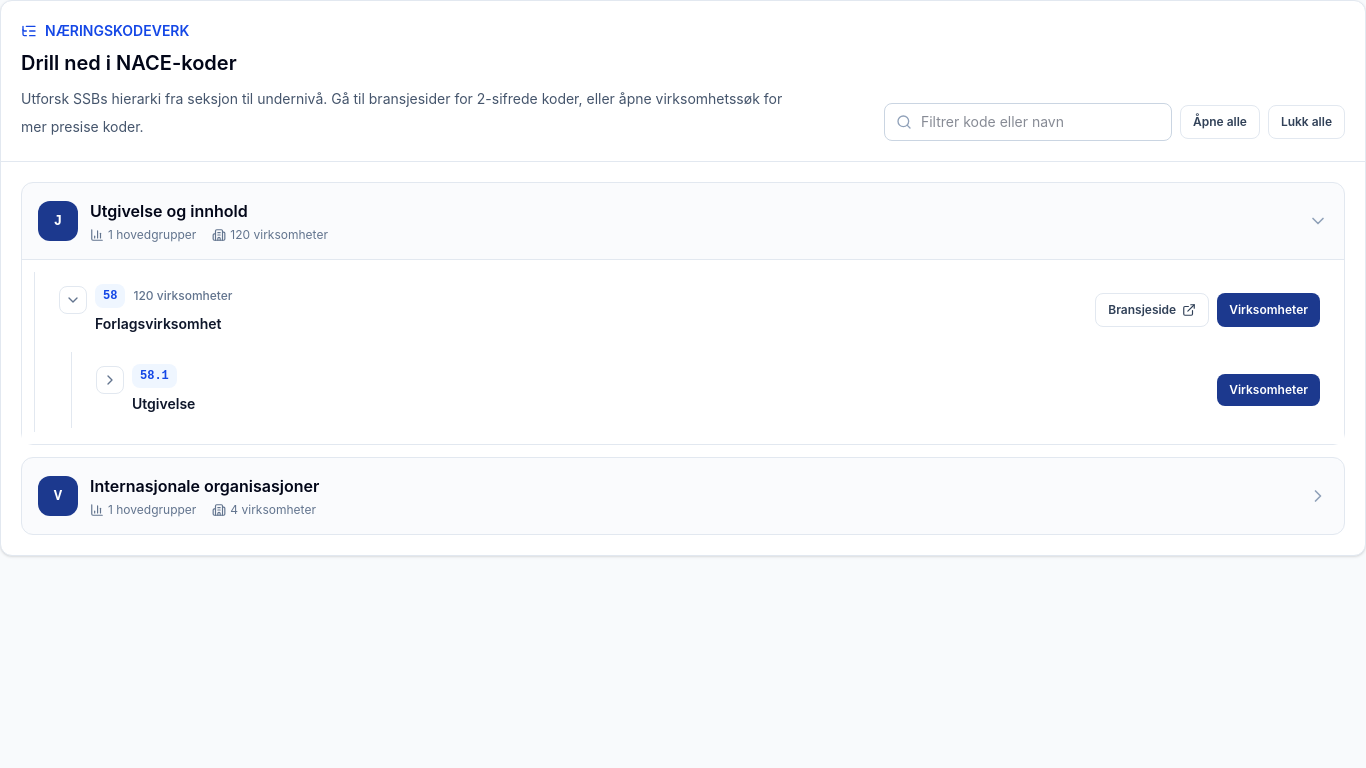
Test: NaceHierarchyBrowser › renders SSB sections including V from the hierarchy parents
expect the text "Internasjonale organisasjoner" is shown: met, box [90, 474, 319, 498]
Click the button "Internasjonale organisasjoner".
click(58, 496)  # box [22, 458, 1344, 534]
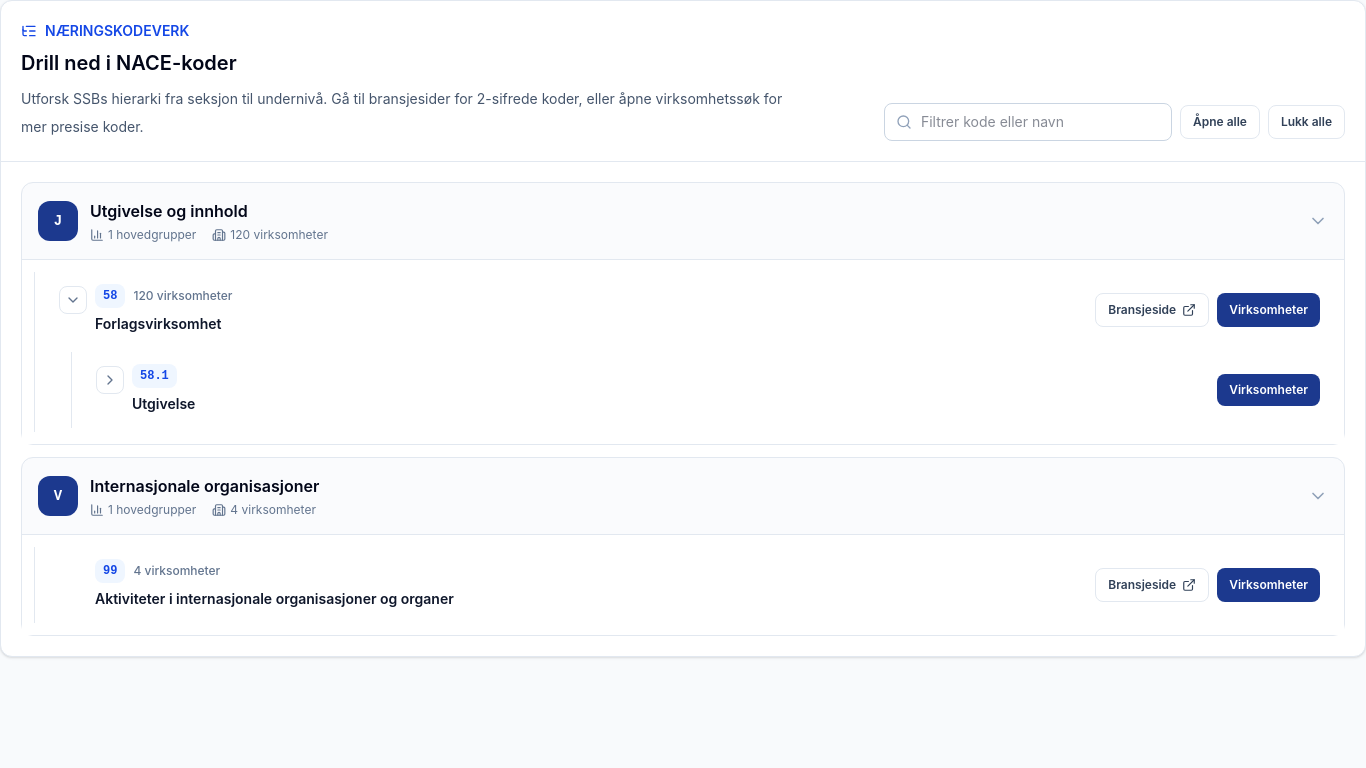
expect the text "4 virksomheter" is shown: met, box [212, 502, 316, 518]
expect the text "99" is shown: met, box [95, 559, 125, 583]
expect the text "Aktiviteter i internasjonale organisasjoner og organer" is shown: met, box [95, 587, 454, 611]
